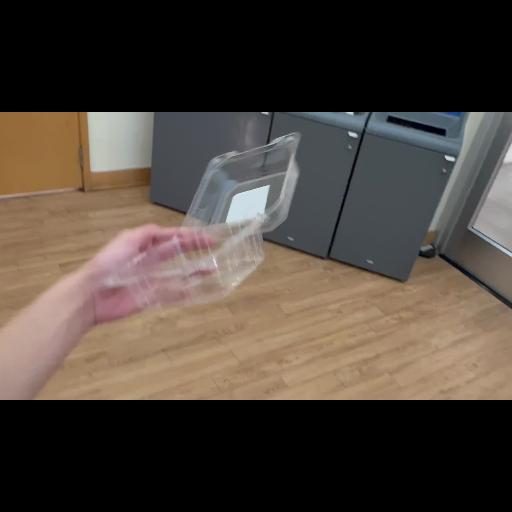small_plastic_container: (100, 132, 294, 312)
